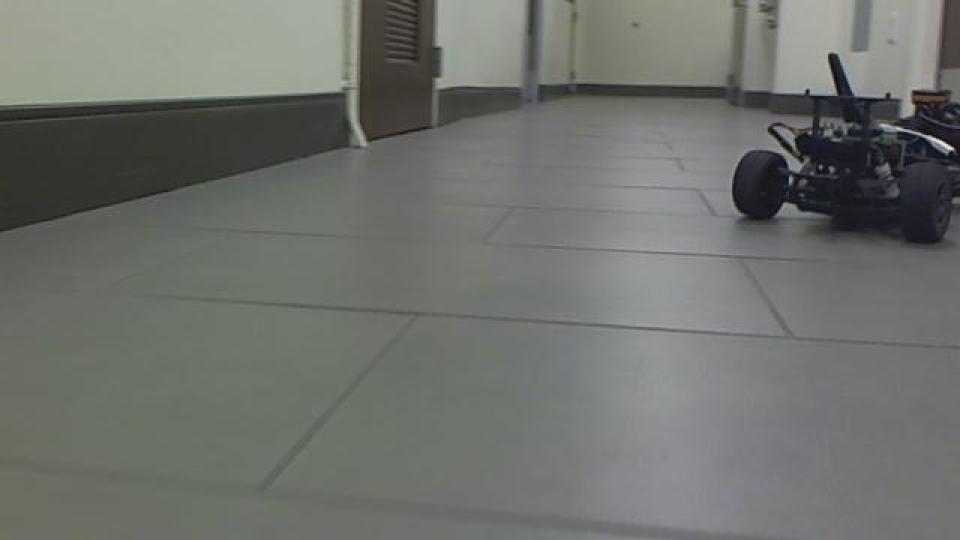car: (727, 50, 957, 246)
